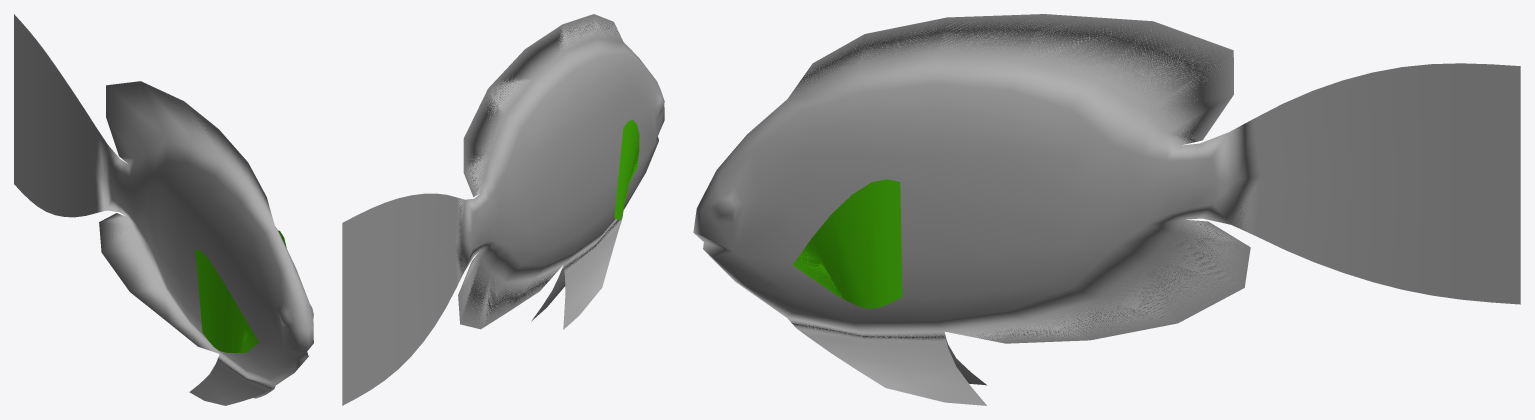
File: Pomacanthidae_C_S.fbx
The picture shows the model from 3 angles, left to right: view 1: azimuth 30°, elevation 25°; view 2: azimuth 150°, elevation 25°; view 3: azimuth 270°, elevation 25°; orthographic projection. The views are drawn at different scales.
Visible parts, largest first — view 1: Pomacanthidae_C_S_Mesh; view 2: Pomacanthidae_C_S_Mesh; view 3: Pomacanthidae_C_S_Mesh.
Boxes of the visible parts, x1,y1,x2,y2 form: Pomacanthidae_C_S_Mesh: (14,14,313,405); Pomacanthidae_C_S_Mesh: (342,14,664,405); Pomacanthidae_C_S_Mesh: (693,14,1520,405).
Size of the model in its own units: 0.00158 by 0.00514 by 0.0101.
